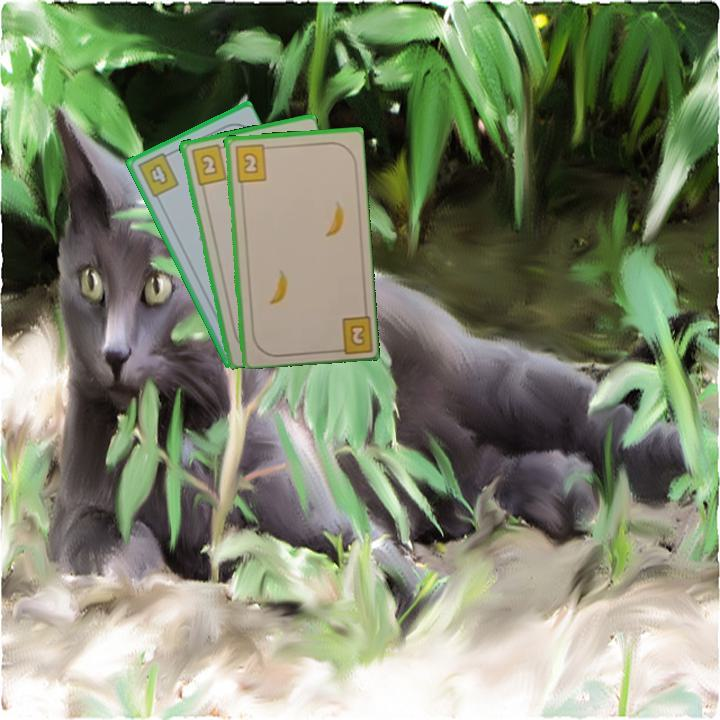2b: (187, 140, 230, 188), (329, 310, 373, 355), (231, 141, 273, 184)
4b: (134, 148, 182, 200)
